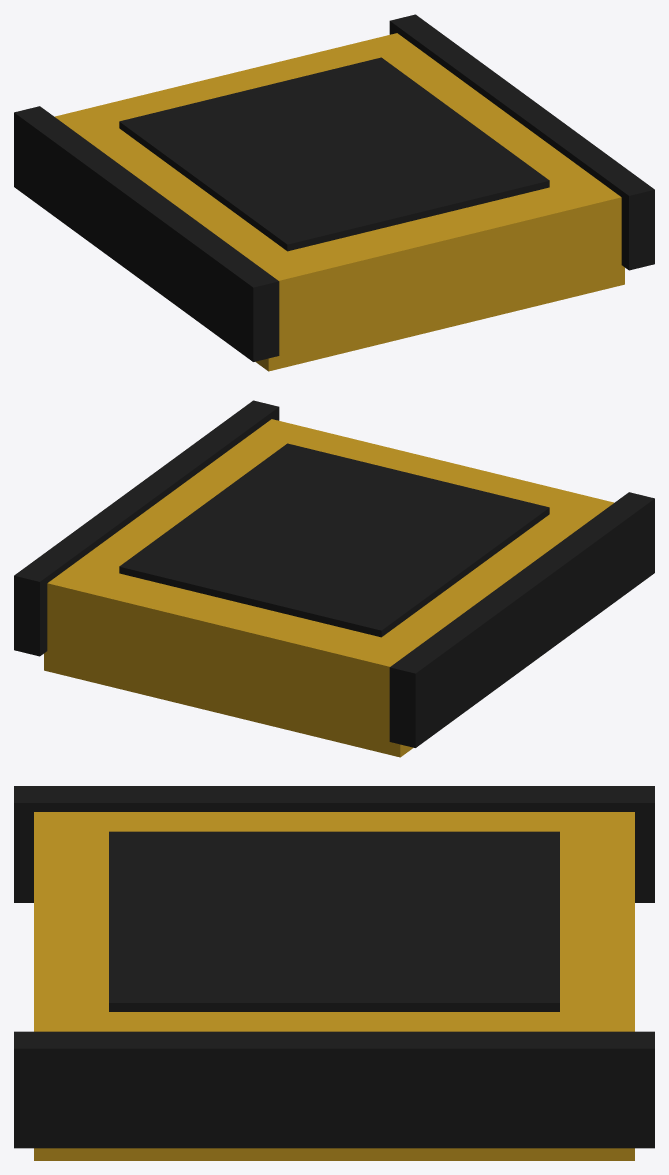
File: kt1_field_ctl.obj
3 views of the same model, one above another, from view 1: azimuth 30°, elevation 25°; view 2: azimuth 150°, elevation 25°; view 3: azimuth 270°, elevation 25° (orthographic). The views are drawn at different scales.
Parts seen in each view (by area): view 1: kt1_field_ctl; view 2: kt1_field_ctl; view 3: kt1_field_ctl.
Boxes of the visible parts, left/top/right/bottom form: kt1_field_ctl: left=14, top=14, right=654, bottom=371; kt1_field_ctl: left=14, top=400, right=654, bottom=757; kt1_field_ctl: left=14, top=786, right=654, bottom=1160.
Bounding box in the file's own units: 1.24 × 0.28 × 1.28.
